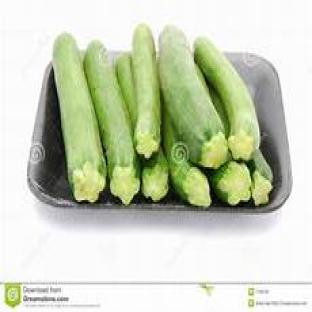Zucchini: (159, 26, 227, 168), (85, 41, 139, 205), (53, 34, 105, 201), (194, 37, 260, 159), (163, 114, 211, 207), (132, 24, 161, 159), (196, 67, 230, 137), (211, 162, 250, 205), (116, 52, 137, 130), (116, 54, 137, 128), (247, 149, 272, 205)
